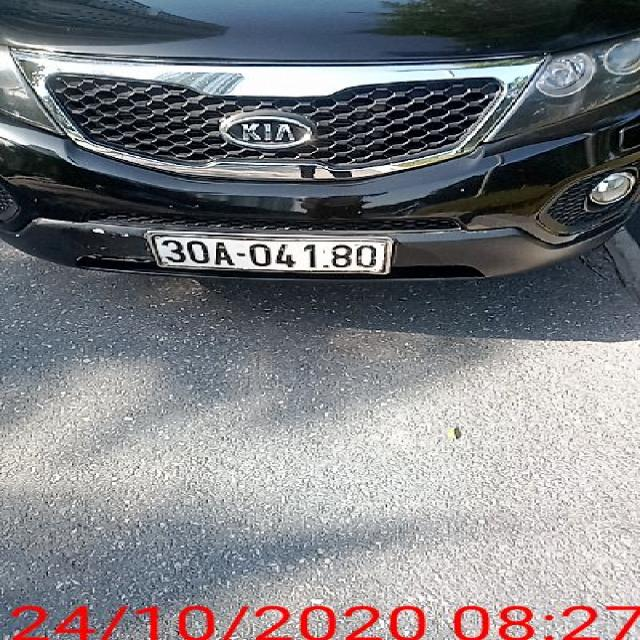license_plate: (156, 234, 392, 272)
